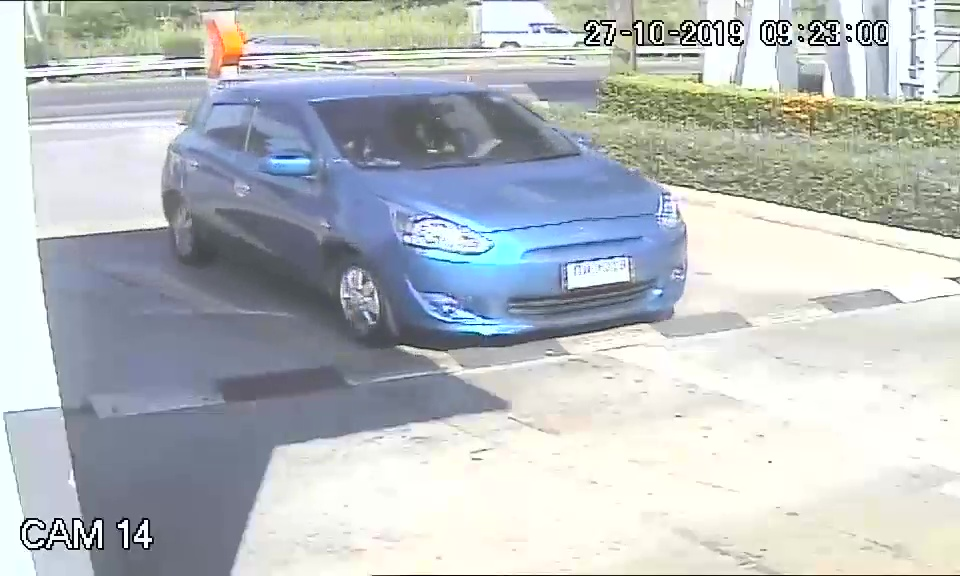sedan: (156, 74, 693, 352)
